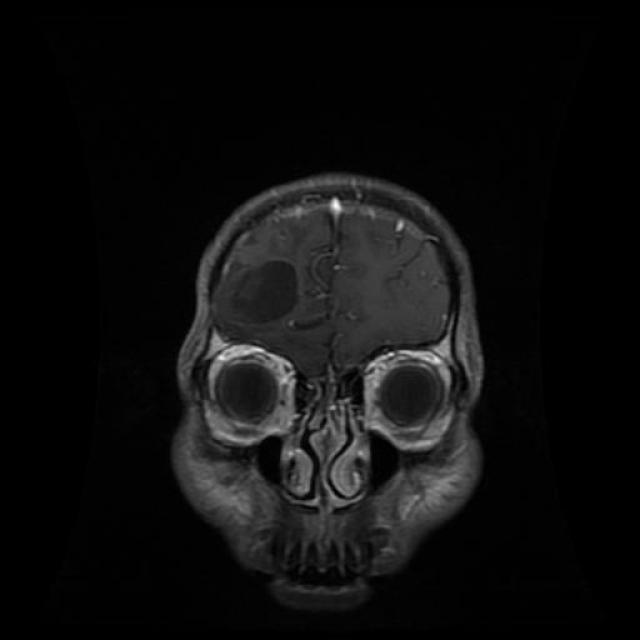glioma: (235, 251, 300, 334)
